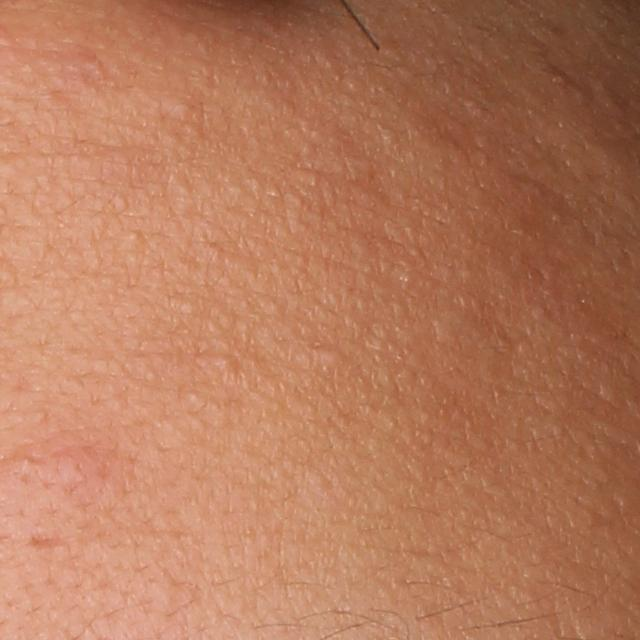atrophic_scar: (18, 526, 70, 555)
comedo: (52, 443, 99, 489), (160, 91, 198, 123), (208, 351, 241, 376), (314, 347, 347, 369)
